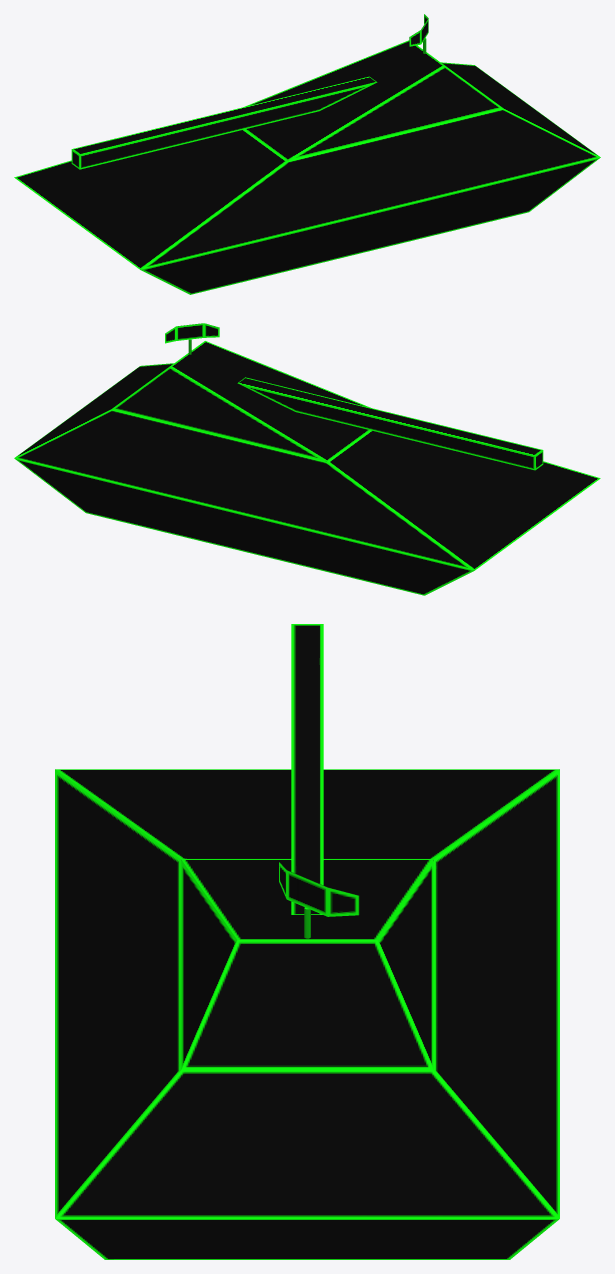
File: tank.glb
3 renders of one model, top to bottom at view 1: azimuth 30°, elevation 25°; view 2: azimuth 150°, elevation 25°; view 3: azimuth 270°, elevation 25°, orthographic. The views are drawn at different scales.
Parts seen in each view (by area): view 1: tank; view 2: tank, antenna; view 3: tank, antenna.
Part boxes in pixels (x1,y1,x2,y2): tank: (14, 40, 600, 294); tank: (14, 341, 600, 595); antenna: (165, 323, 219, 354); tank: (55, 624, 559, 1259); antenna: (279, 862, 359, 938).
Size of the model in its own units: 16.54 by 5.62 by 7.83.
1 material, 1 textured.
